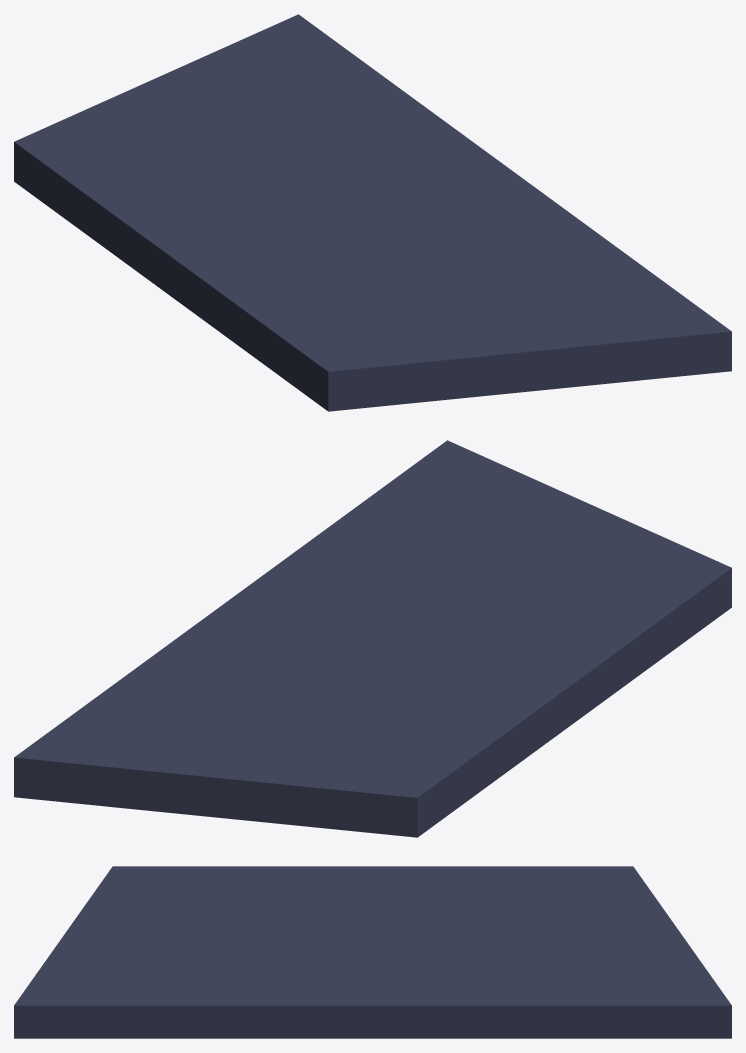
File: item-tarimaParque.glb
3 renders of one model, top to bottom at view 1: azimuth 30°, elevation 25°; view 2: azimuth 150°, elevation 25°; view 3: azimuth 270°, elevation 25°, orthographic. The views are drawn at different scales.
Visible parts, largest first — view 1: tarimaParque; view 2: tarimaParque; view 3: tarimaParque.
Boxes of the visible parts, box(x1,y1,x2,y2) form: tarimaParque: box(14, 14, 731, 411); tarimaParque: box(14, 440, 731, 837); tarimaParque: box(14, 866, 731, 1038).
Bounding box in the file's own units: 11 × 1.21 × 24.
